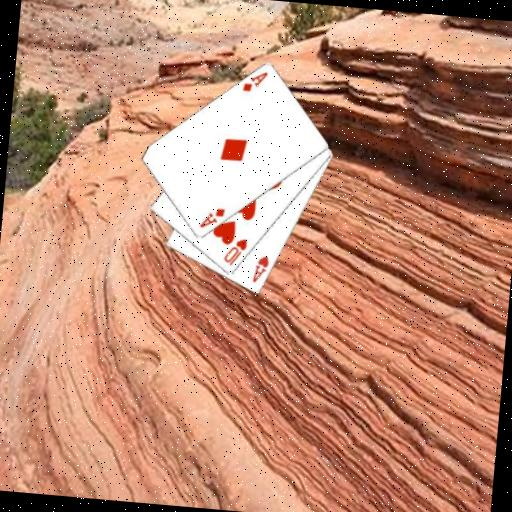10H: (221, 234, 250, 269)
AD: (196, 204, 227, 232), (239, 67, 270, 95)
AH: (250, 252, 272, 286)
